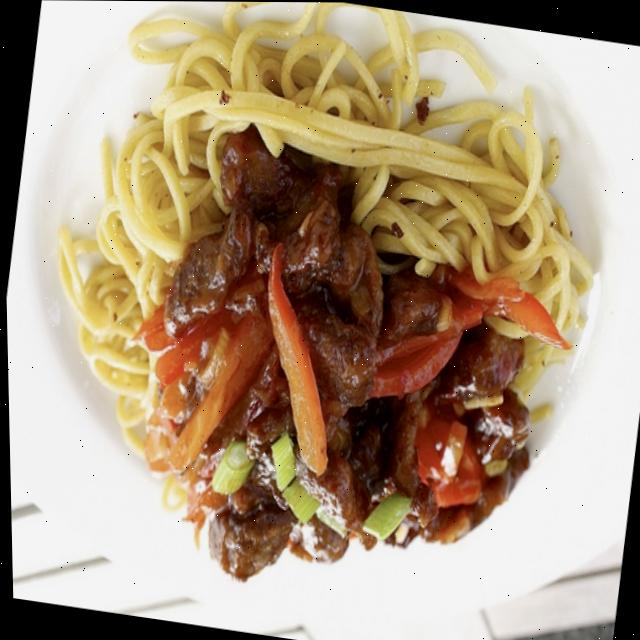面条主食: (2, 0, 640, 616)
